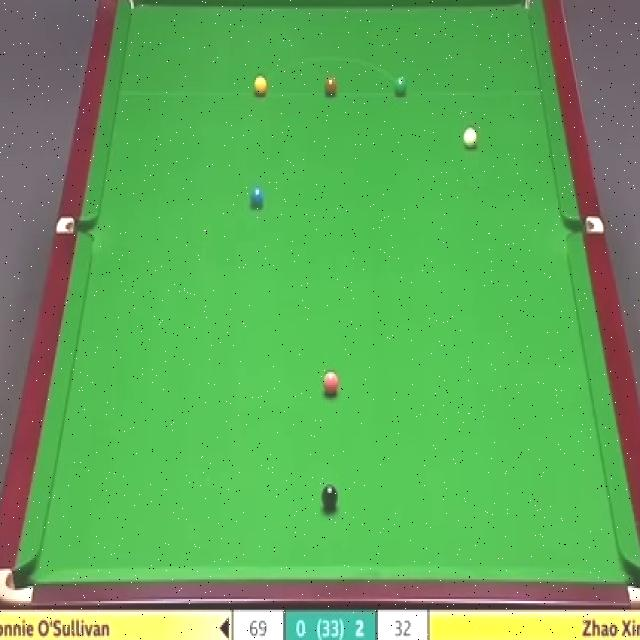black-ball: (322, 484, 338, 512)
blue-ball: (249, 186, 266, 211)
brown-ball: (323, 78, 338, 96)
green-ball: (393, 74, 409, 99)
pink-ball: (322, 369, 340, 400)
white-ball: (463, 128, 478, 151)
yellow-ball: (252, 75, 268, 97)
